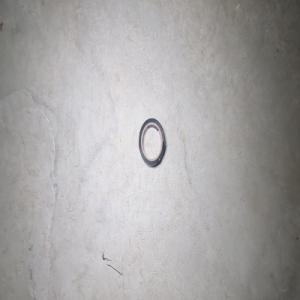Tape: (138, 118, 166, 167)
